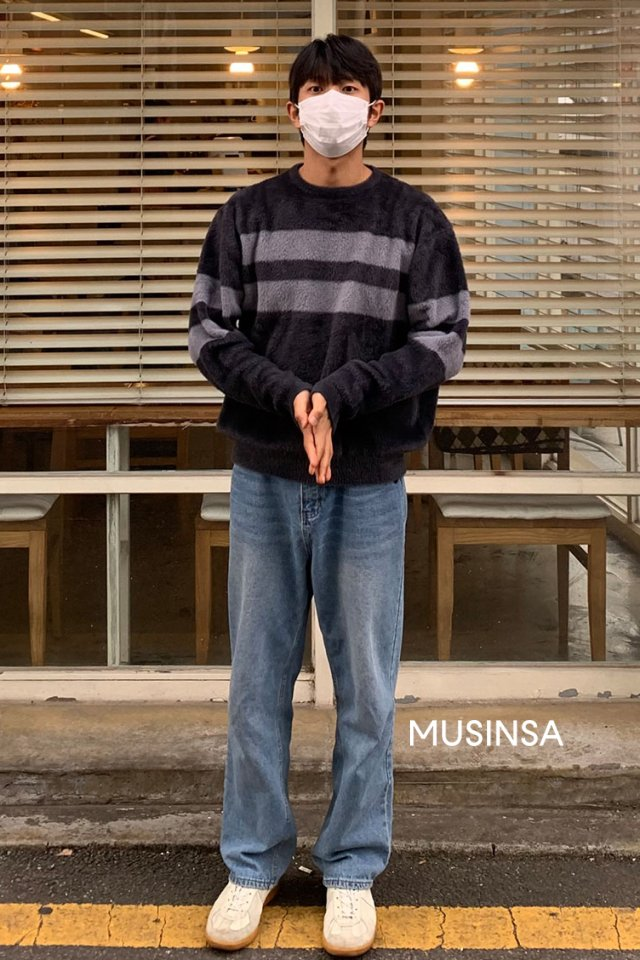Jeans: (211, 449, 411, 894)
Mask: (287, 89, 378, 157)
Shoes: (199, 869, 389, 953)
Top: (181, 161, 475, 487)
